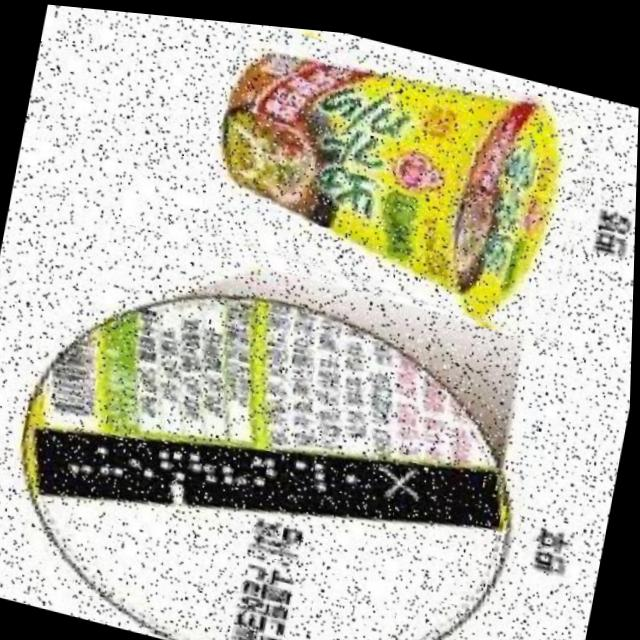Miscellaneous: (194, 15, 605, 337)
